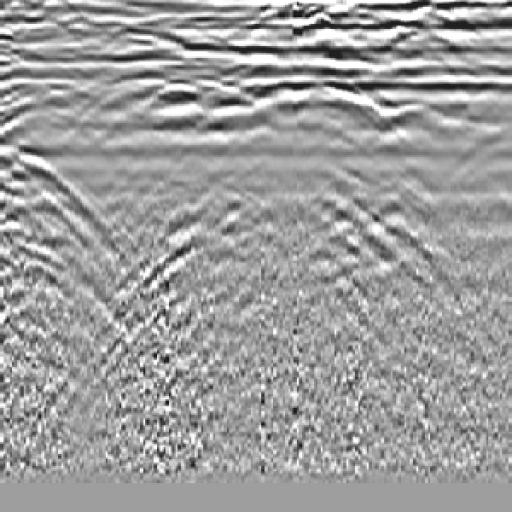metalic: (138, 68, 285, 289)
